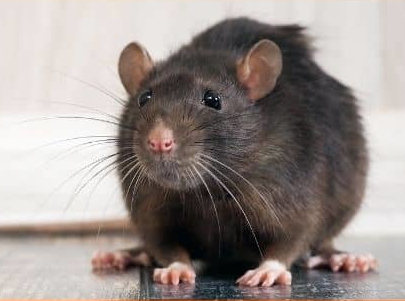rat: (76, 12, 386, 296)
